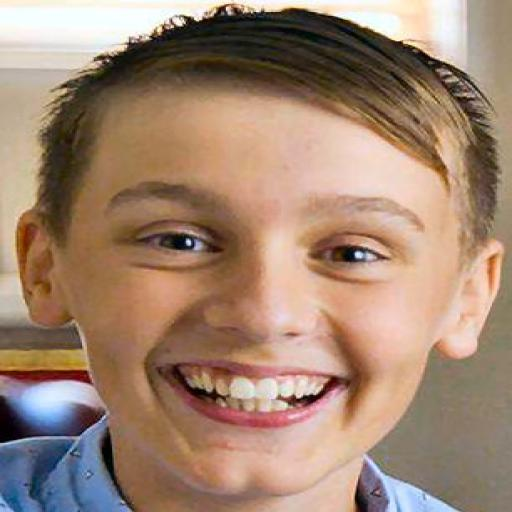Autism: (19, 8, 512, 512)
